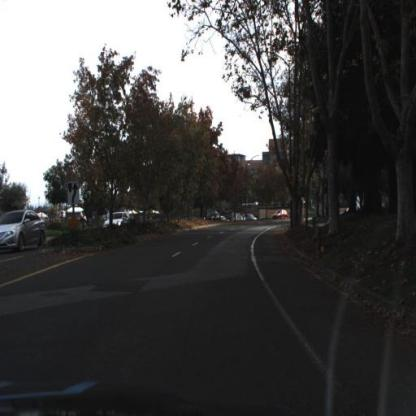car: (1, 209, 49, 251), (102, 207, 136, 234), (102, 210, 131, 233)
